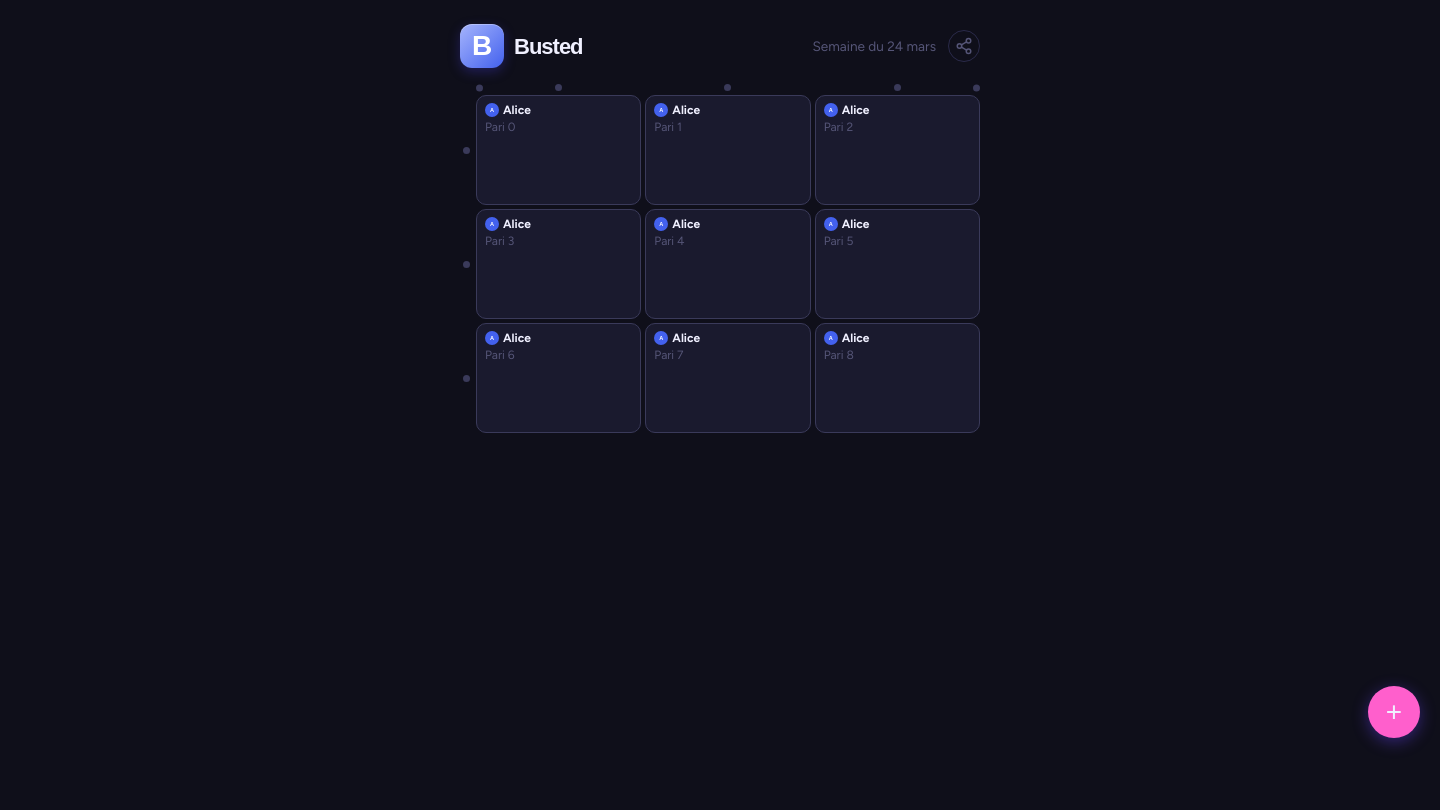
Test: Game — grid with cells › shows invite sheet after clicking invite button
Expected: the text "Pari 0" is shown, [485, 120, 516, 136]
Click the button titled "Inviter".
click(964, 46)  # box [948, 30, 980, 62]
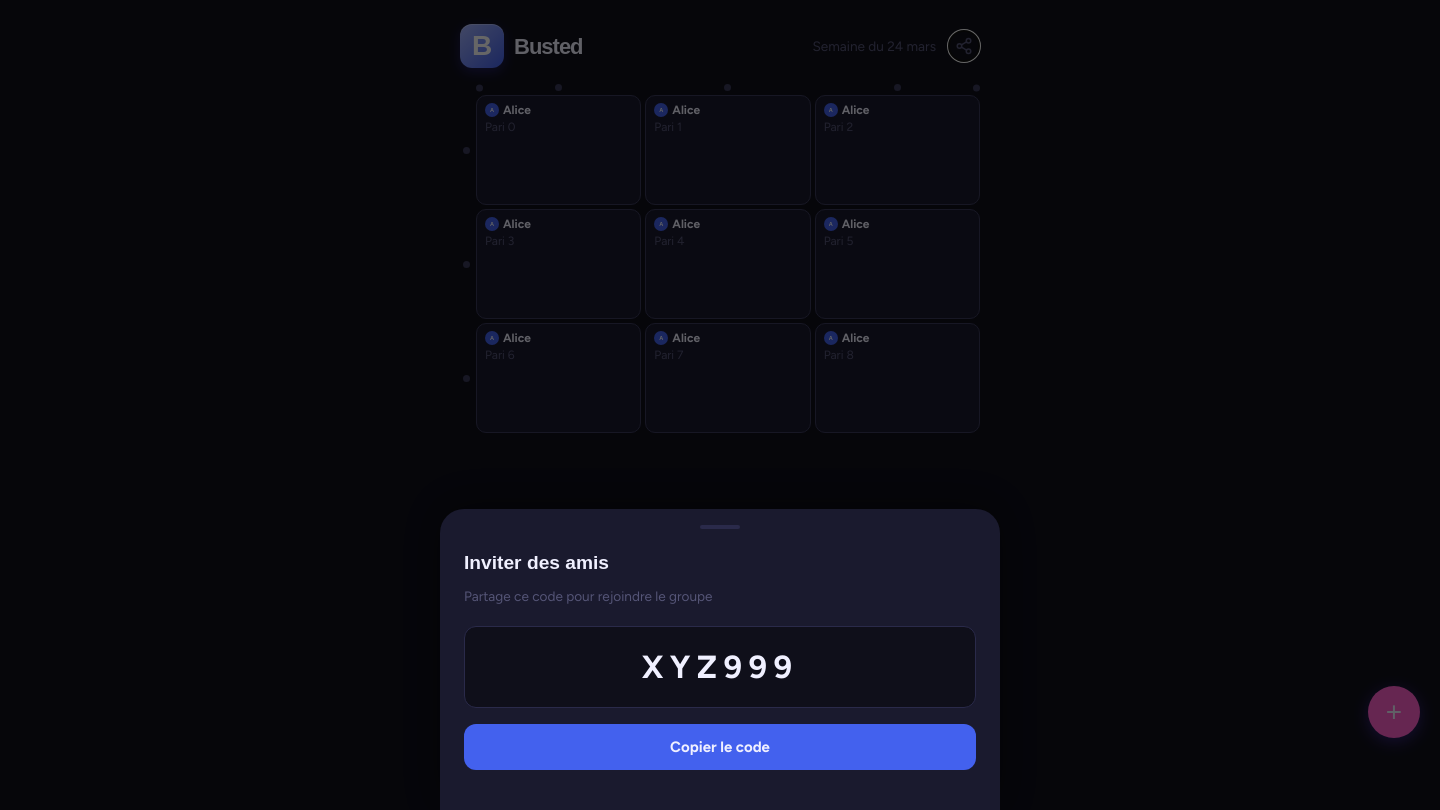
Expected: the text "XYZ999" is shown, [464, 626, 976, 708]
Expected: the heading "Inviter des amis" is shown, [464, 552, 609, 573]
